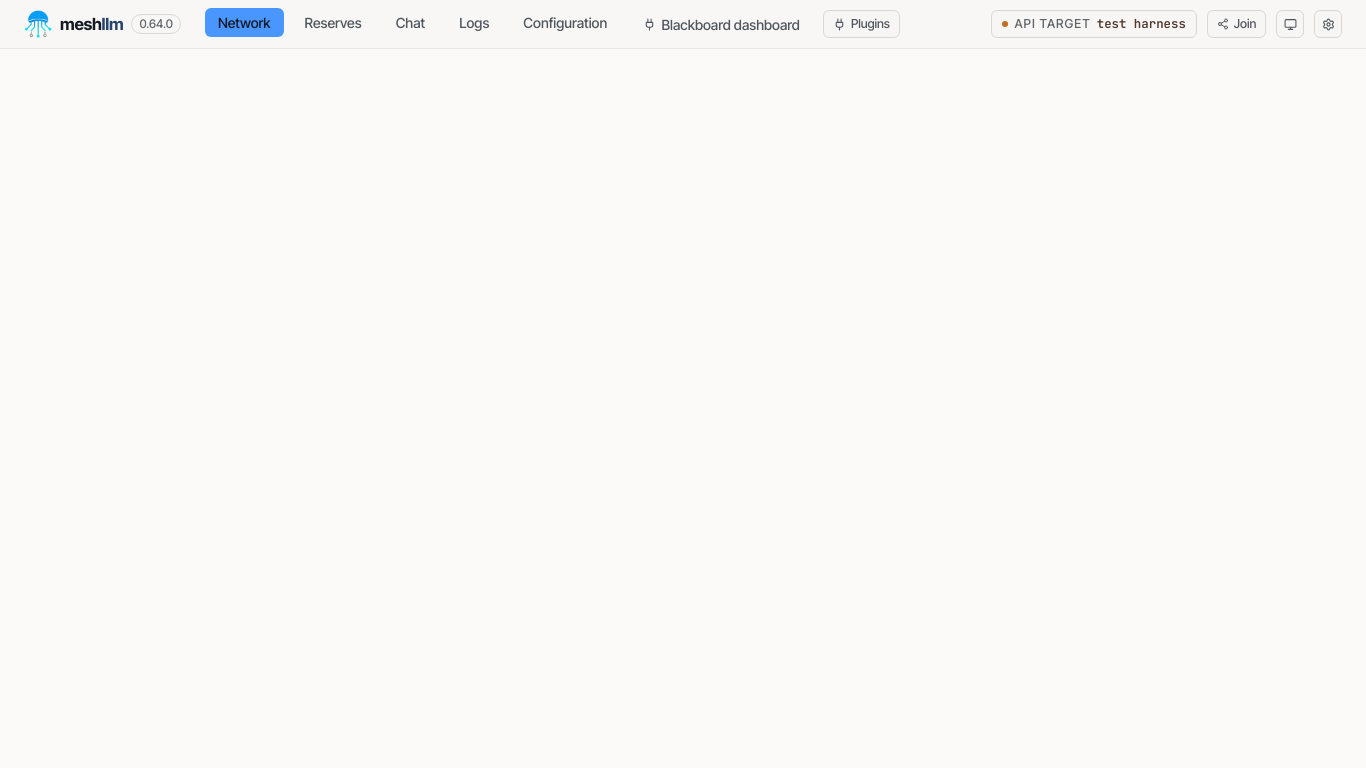
it: TopNav › keeps a promoted primary plugin tab separate from the auxiliary plugin menu
Expected: the link "Blackboard dashboard" is shown, [630,10,813,38]
Click the button with aria-label "Plugin pages".
click(861, 24)  # box [823,10,900,38]
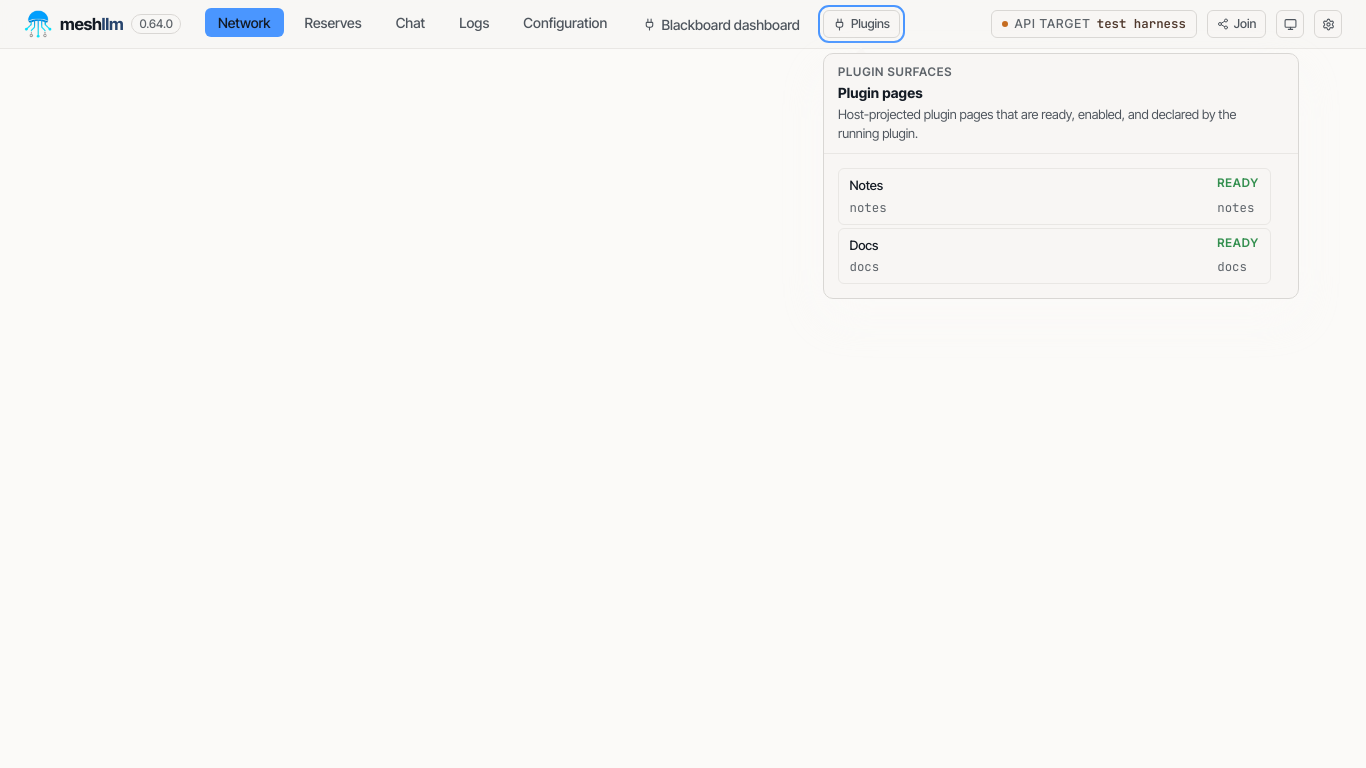
Now the link "Notes Ready notes notes" is shown, box [838,168,1270,225]
Now the link "Docs Ready docs docs" is shown, box [838,228,1270,284]
